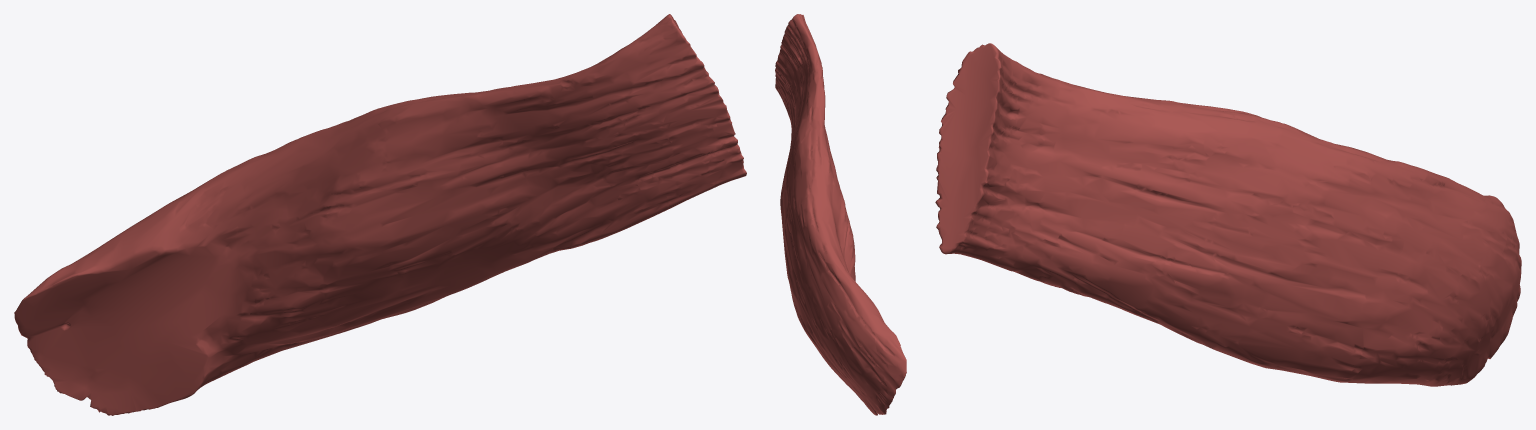
The model's file is FMA32552.glb.
3 views of the same model, side by side, from view 1: azimuth 30°, elevation 25°; view 2: azimuth 150°, elevation 25°; view 3: azimuth 270°, elevation 25° (orthographic). The views are drawn at different scales.
Visible parts, largest first — view 1: FMA32552; view 2: FMA32552; view 3: FMA32552.
Boxes of the visible parts, bbox=[...] form: FMA32552: bbox=[14, 14, 746, 415]; FMA32552: bbox=[775, 14, 906, 415]; FMA32552: bbox=[935, 43, 1521, 386].
Size of the model in its own units: 0.0925 by 0.0866 by 0.0868.
